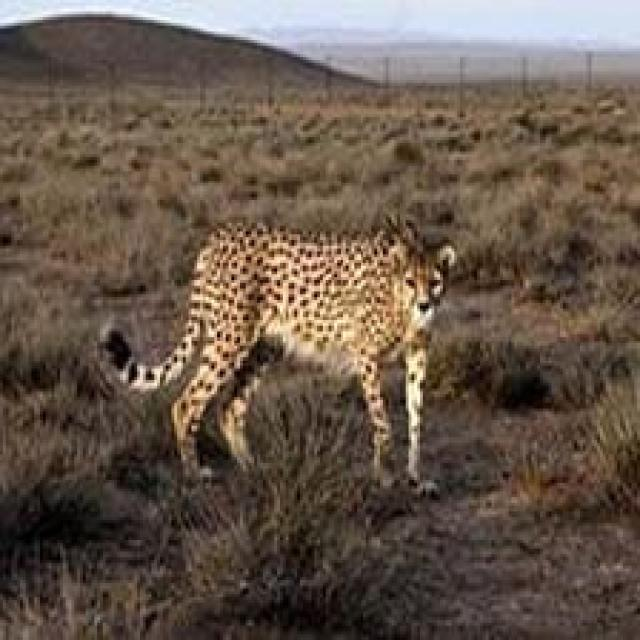cheetah: (94, 208, 626, 618)
